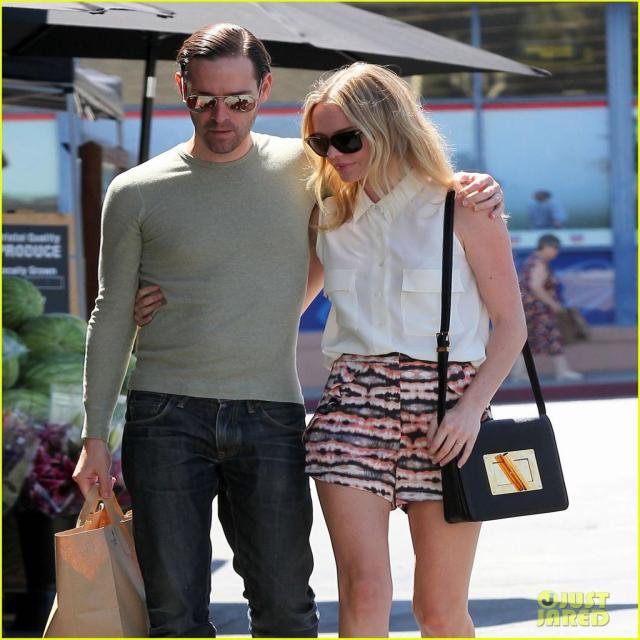Face: (186, 47, 273, 157), (300, 91, 386, 183)
